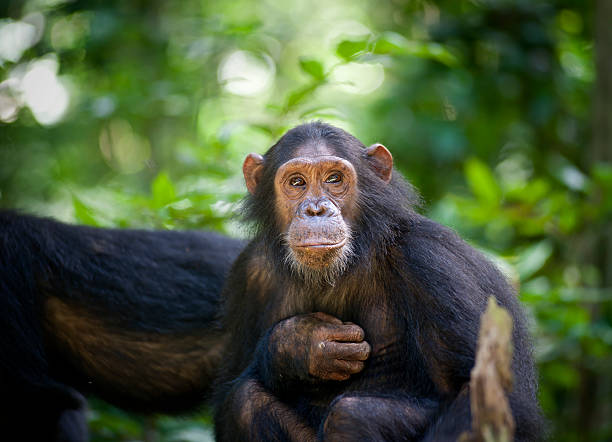chimpanzee: (227, 112, 433, 315)
